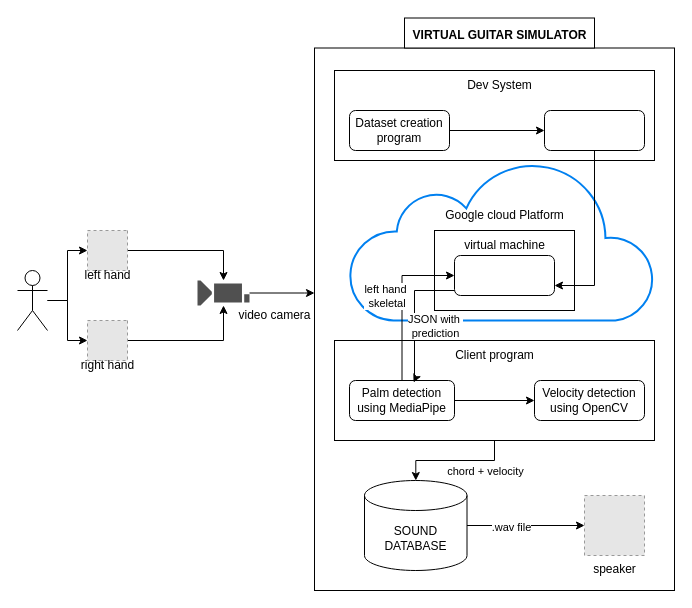
The diagram is 692 pixels wide and 608 high, and some of its shapes have lost their labels. Grey dashed boxes stand in for pictures. The centre of each missing label's shape, as x and y in pixels:
"Model creation and training" goes at point (594, 130).
"Prediction using Model" goes at point (504, 275).
"User" goes at point (32, 300).
